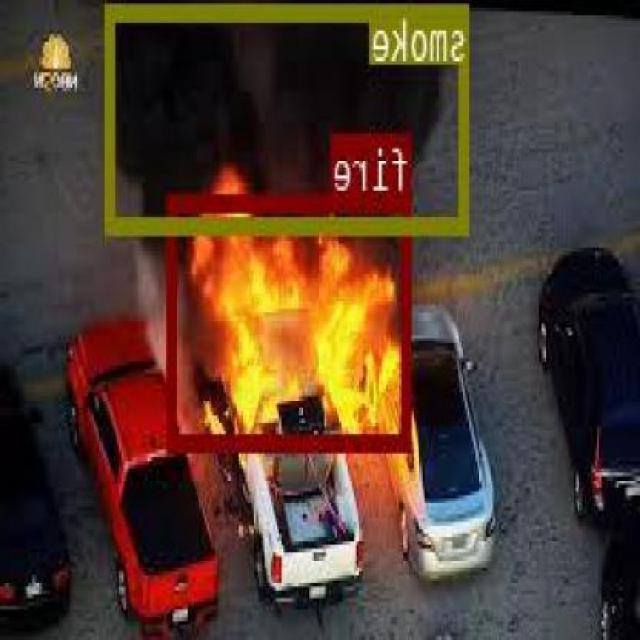Fire: (170, 194, 413, 448)
Smoke: (107, 2, 470, 232)
